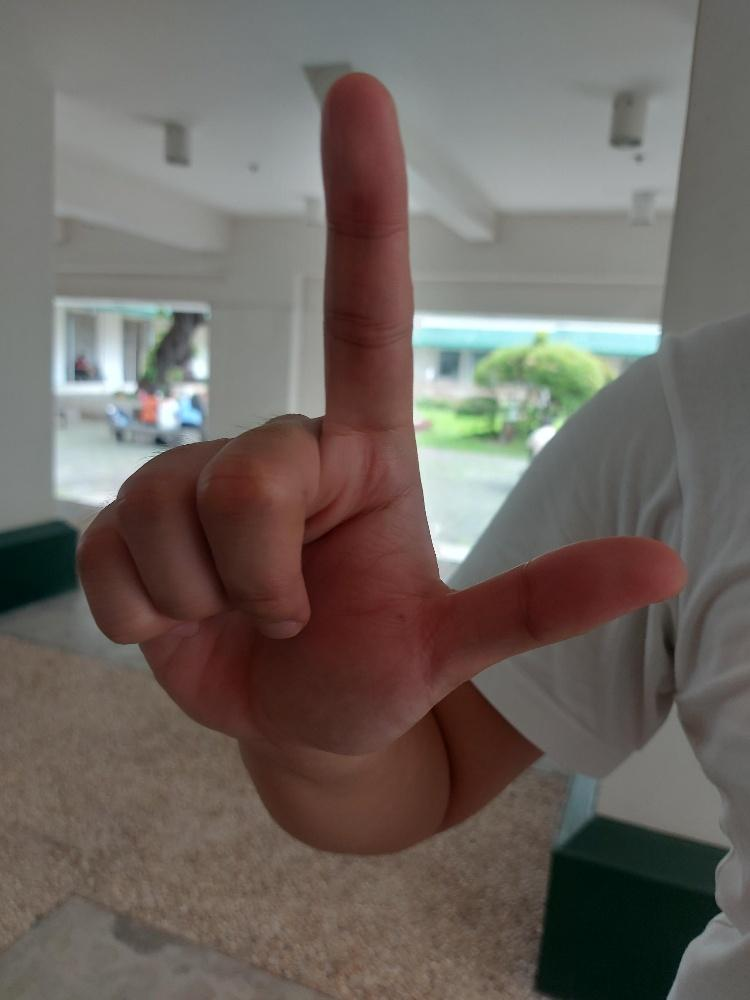l: (70, 68, 691, 760)
